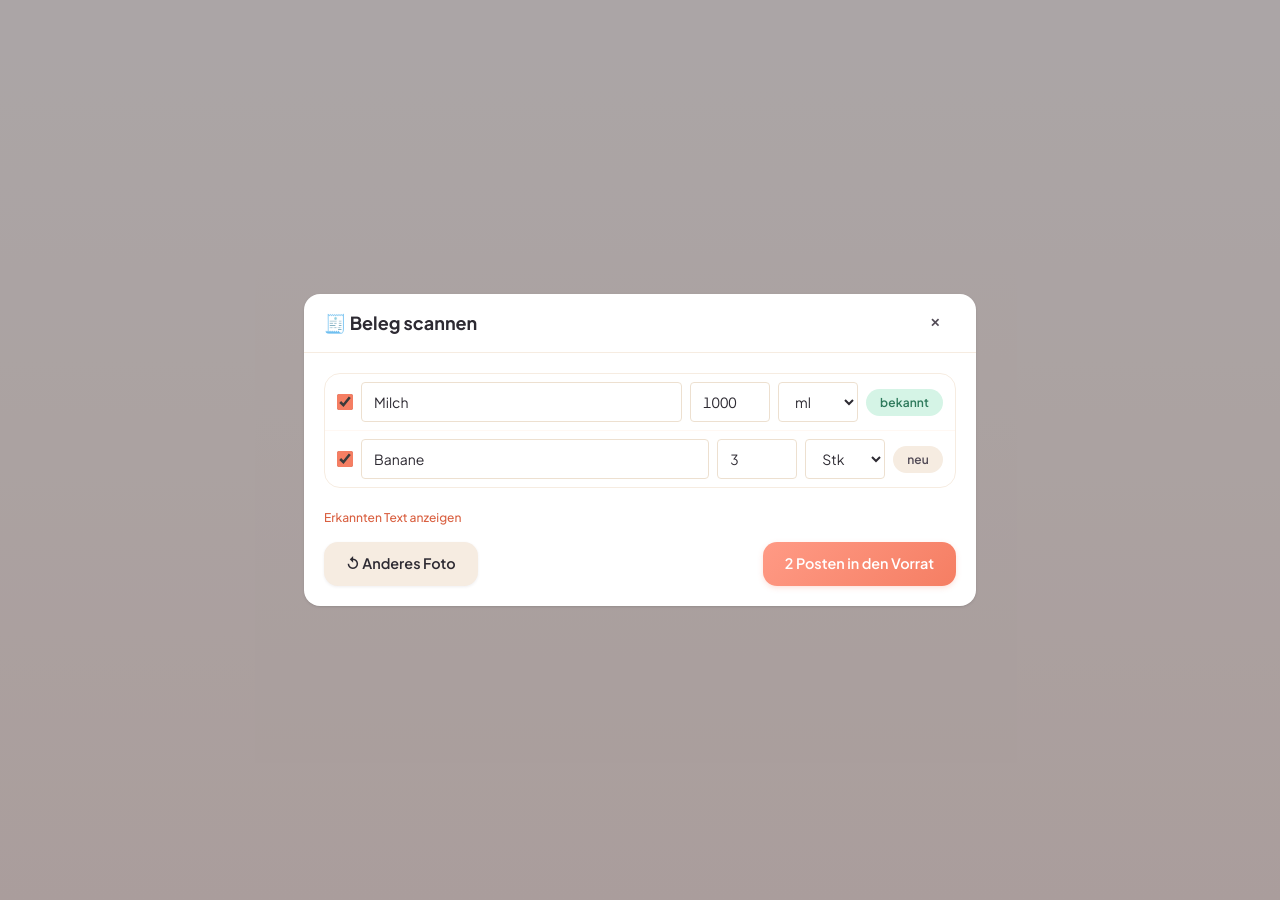
Test: ReceiptScanModal › Rückänderung auf den Original-Namen stellt den Match wieder her
Replace the text in the field in the row of "bekannt" with "Hafermilch": {"x": 522, "y": 402} [361,382,682,422]
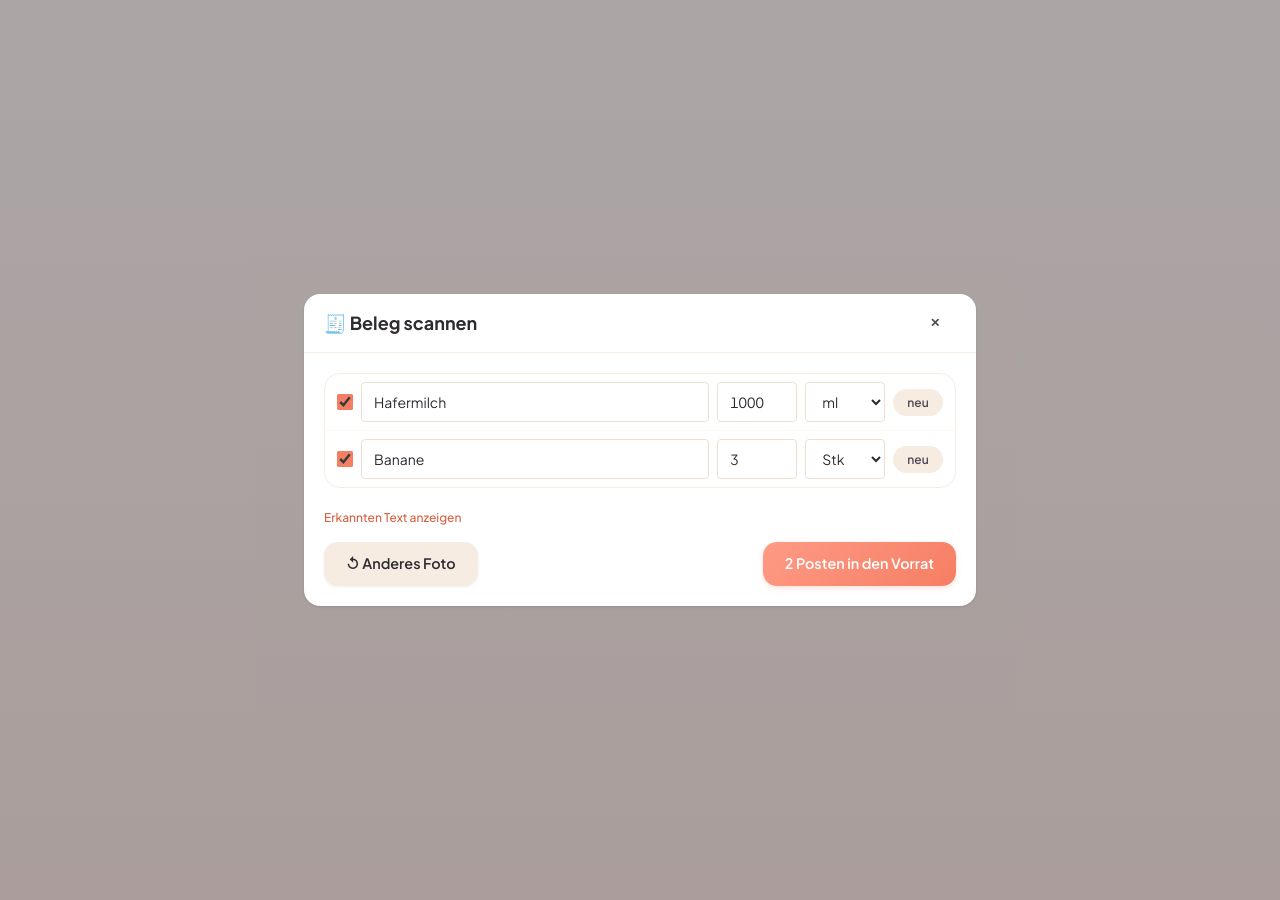
Check: the text "bekannt" is gone
Replace the text in the 1st field with "milch": {"x": 535, "y": 402} [361,382,709,422]
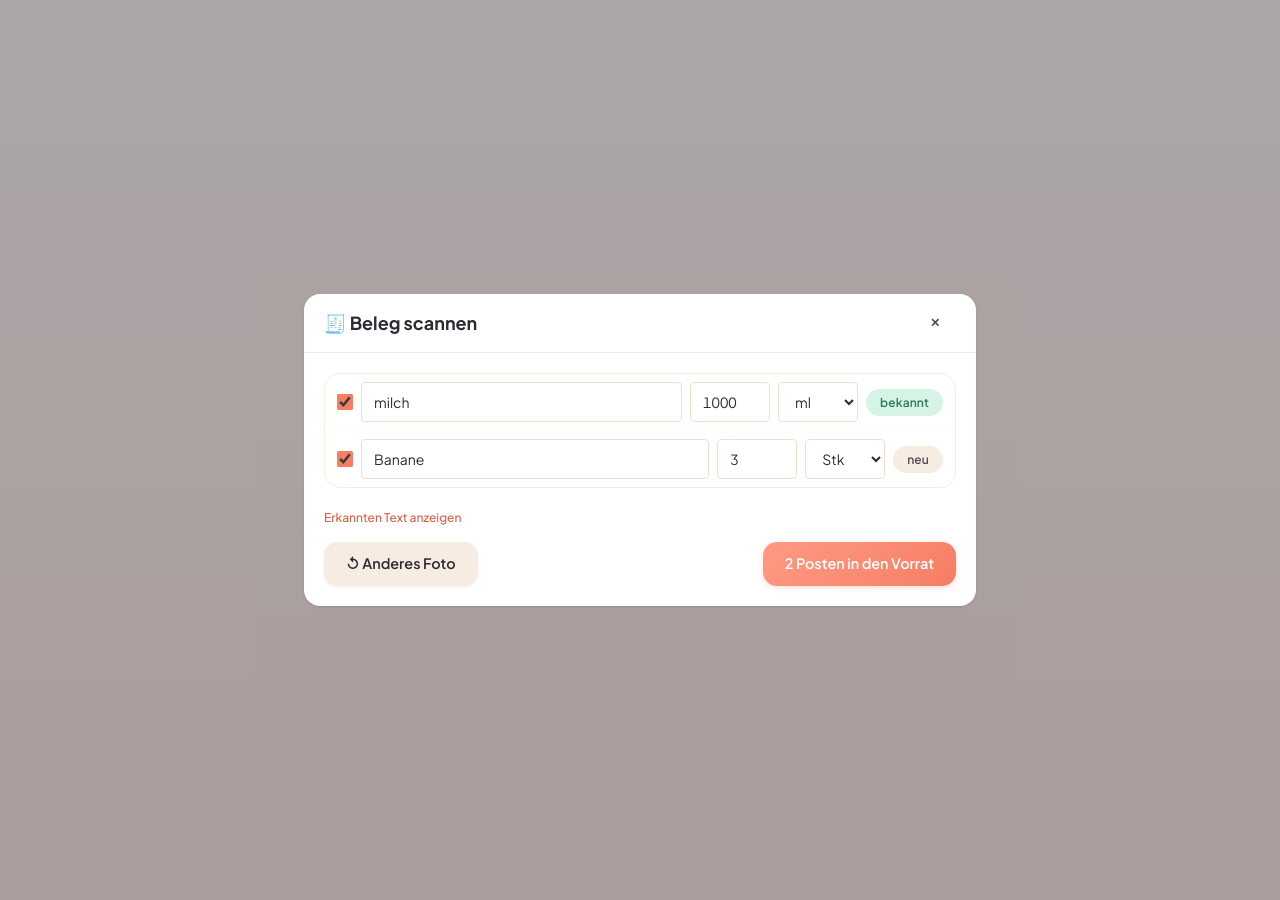
Check: the text "bekannt" is shown, box [866,388,943,416]
